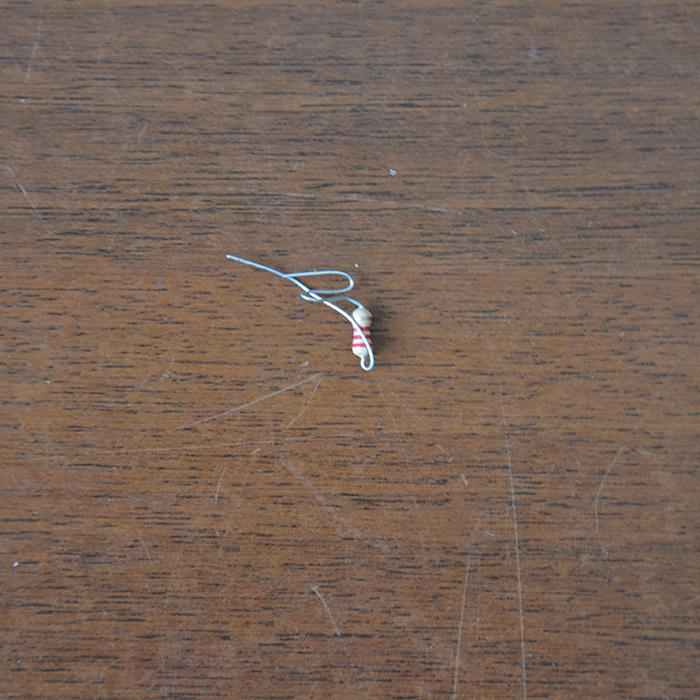resistor: (350, 304, 373, 360)
